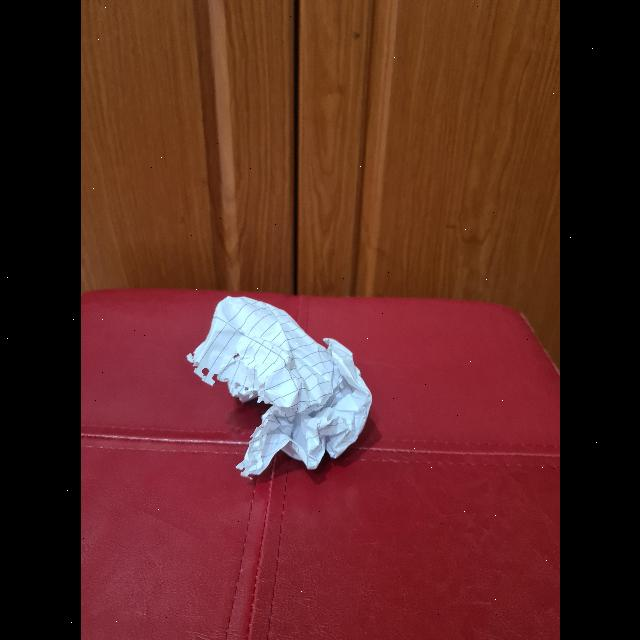trash: (184, 291, 366, 473)
